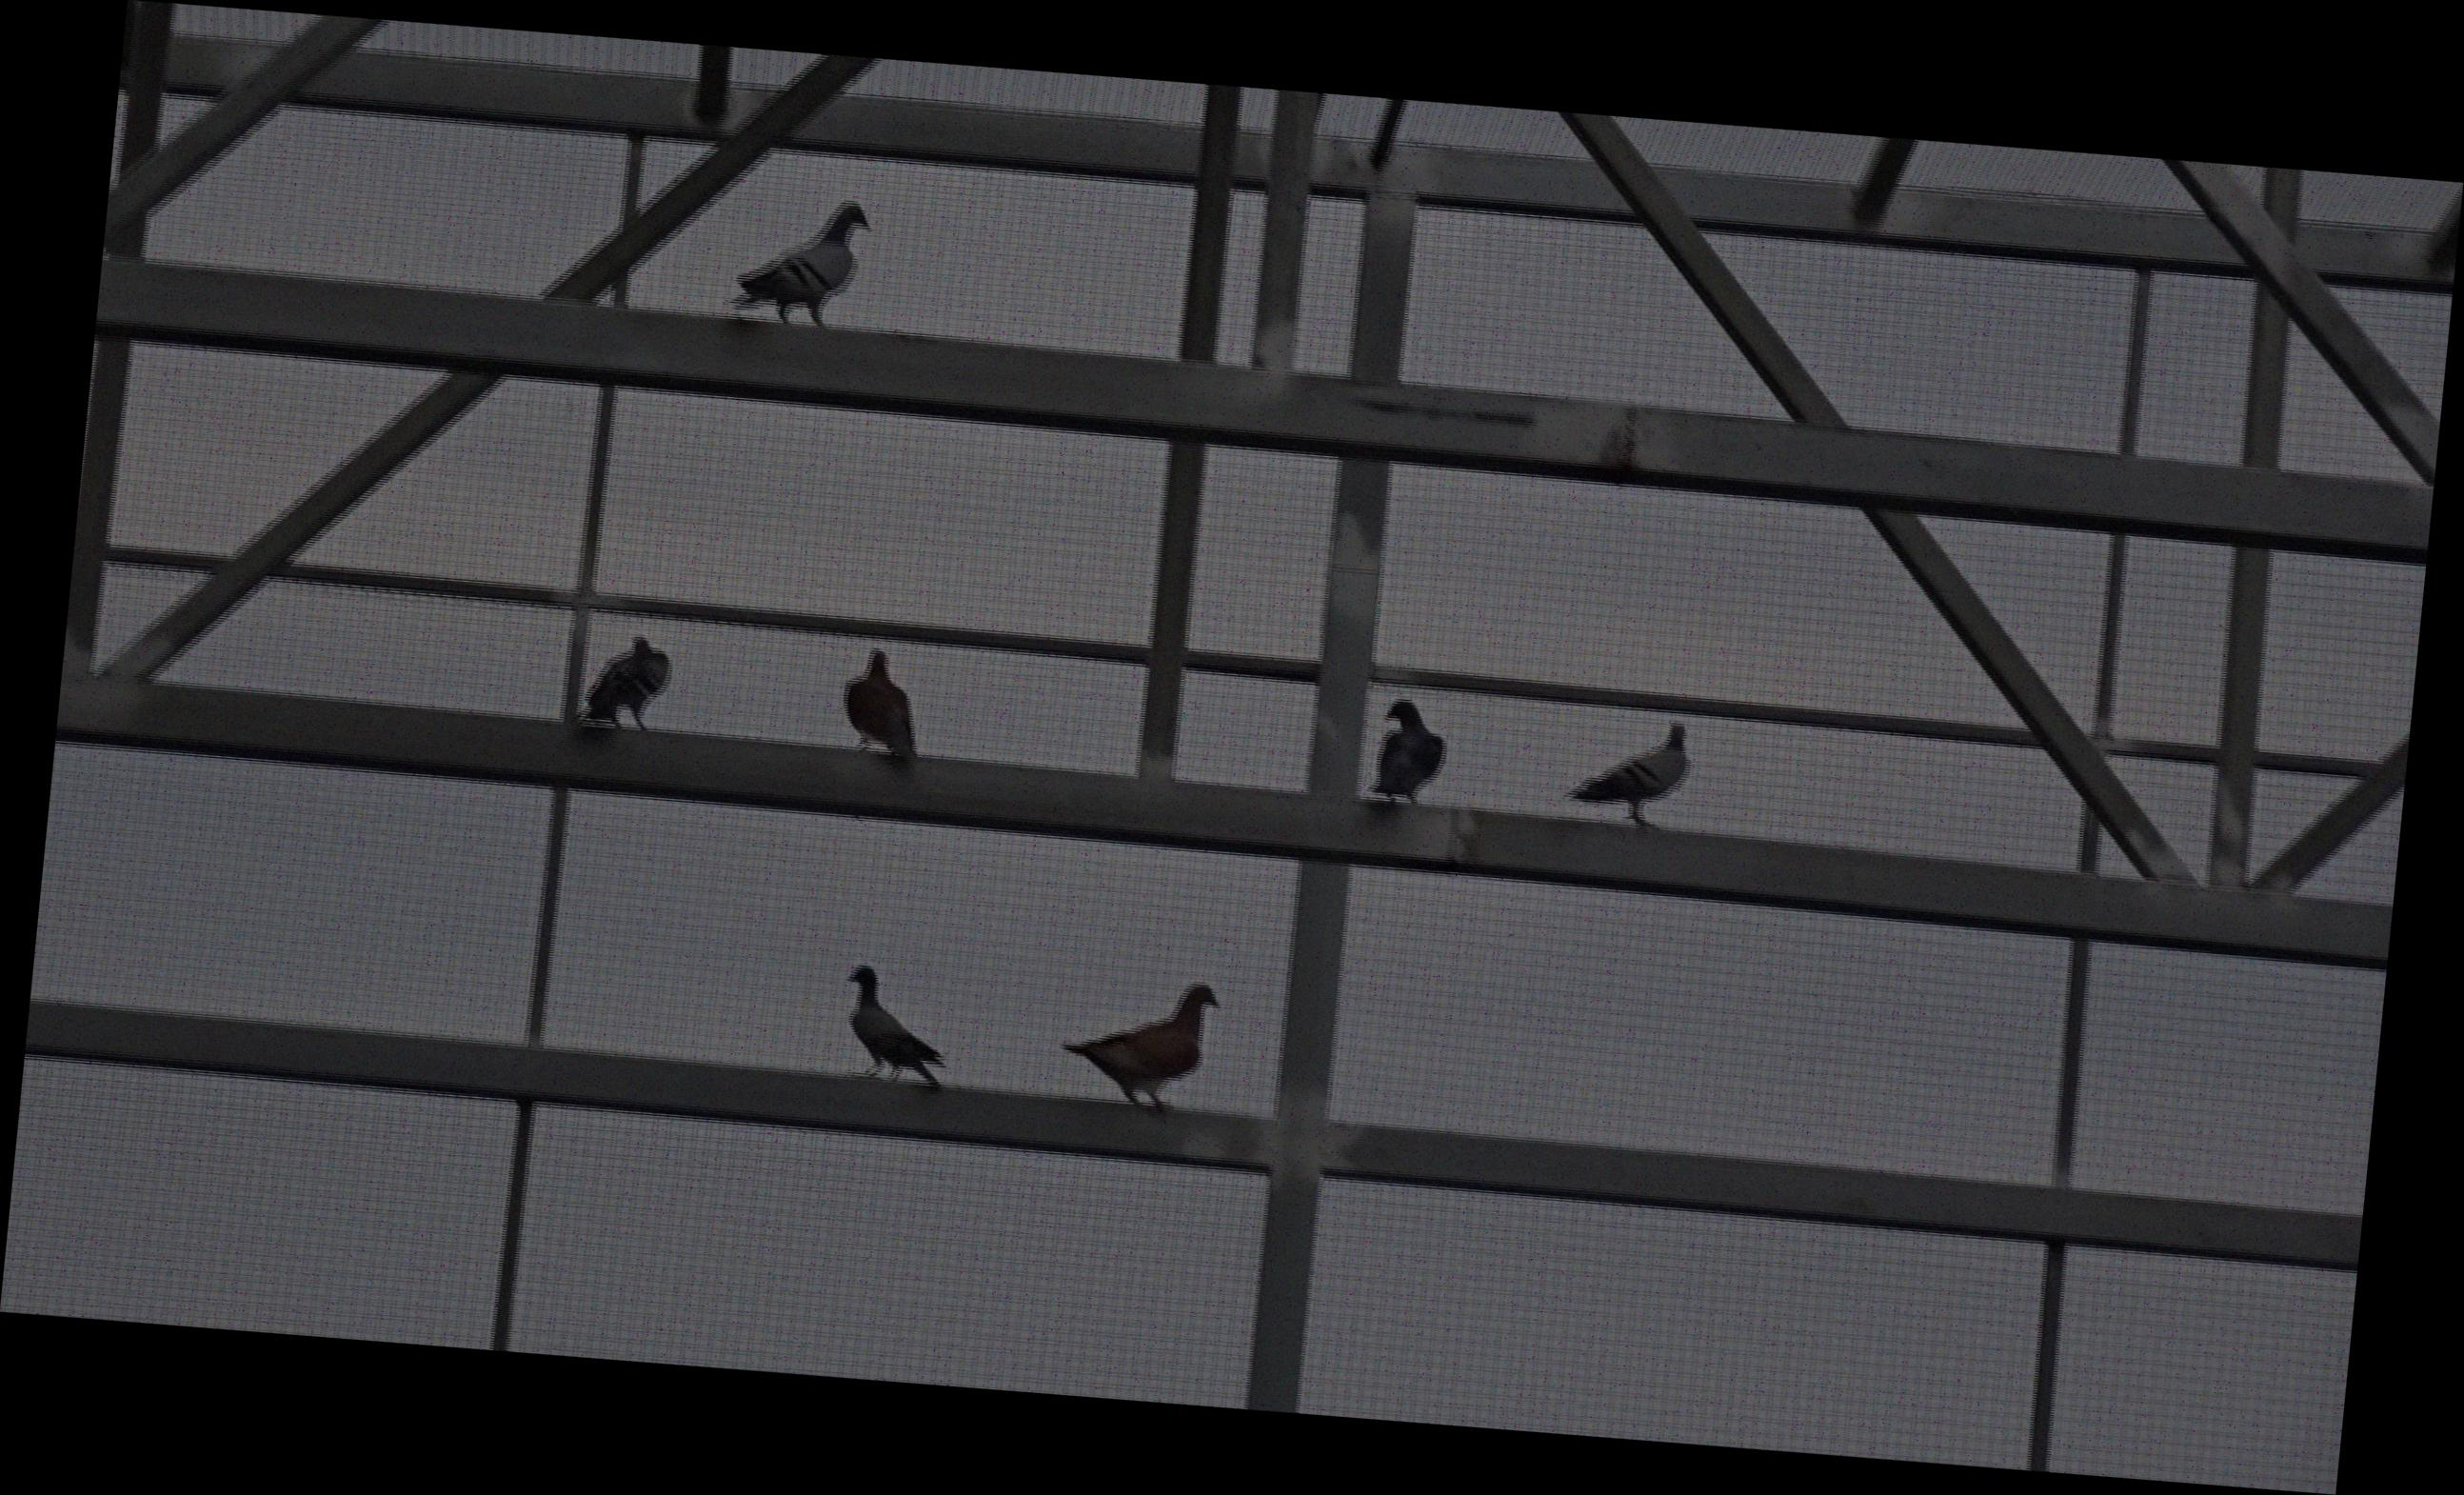bird: (1052, 965, 1223, 1115), (722, 190, 878, 331), (1559, 710, 1698, 831), (838, 963, 959, 1090), (838, 644, 931, 762), (576, 630, 678, 736), (1373, 696, 1456, 808)
